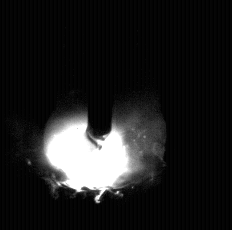arame: (88, 0, 114, 149)
poca: (42, 0, 166, 230)
